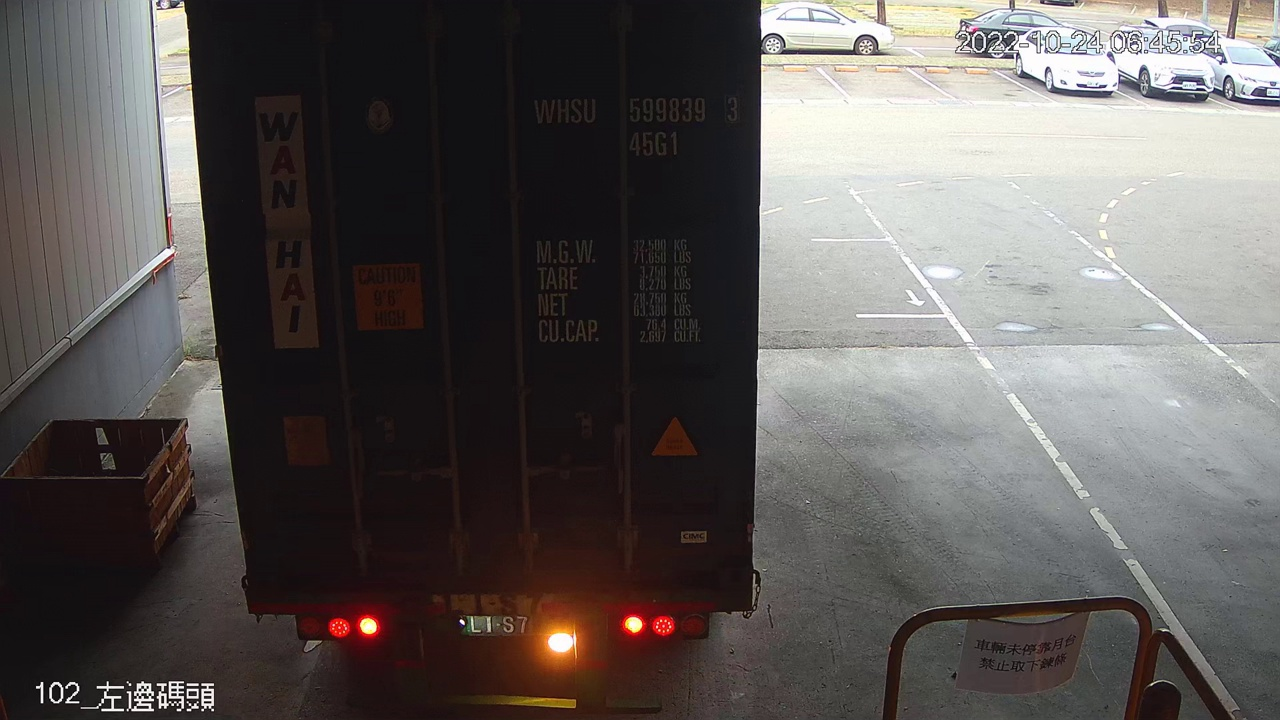container: (521, 80, 747, 165)
